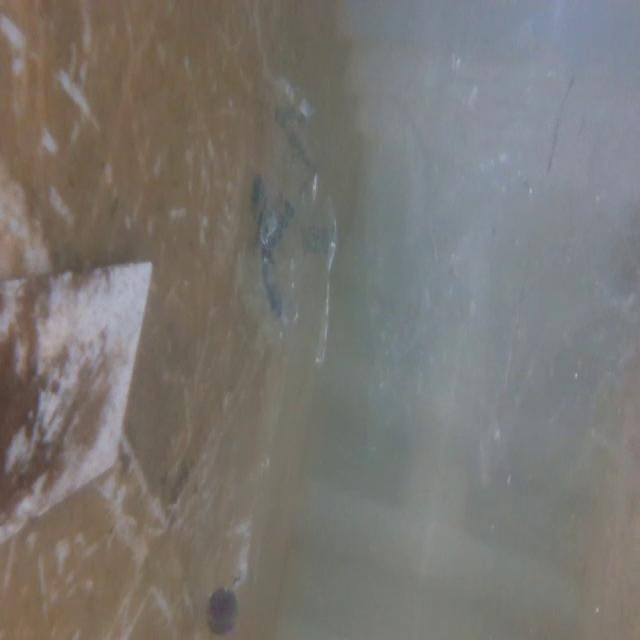metal: (0, 250, 172, 530)
plastic bags: (372, 71, 557, 474), (240, 64, 347, 388)
plastic bottle: (200, 426, 268, 640)
